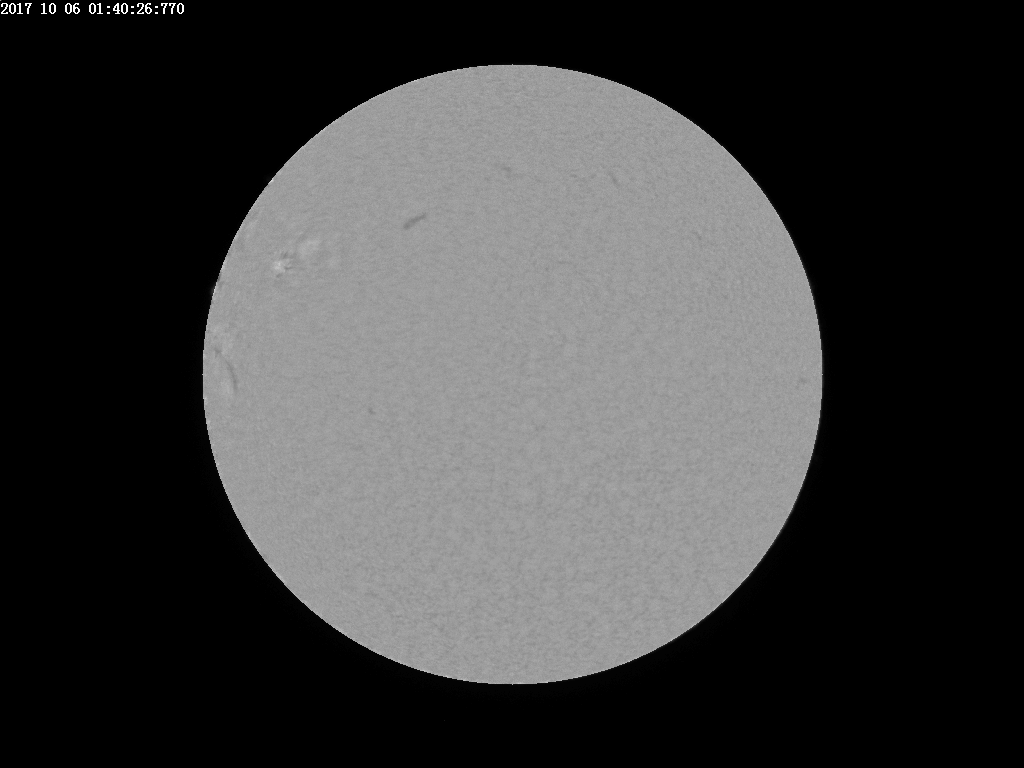filament: (211, 334, 244, 406), (262, 247, 300, 287), (484, 152, 524, 187), (396, 206, 433, 235), (601, 159, 621, 188), (793, 372, 813, 393), (361, 399, 378, 417)
